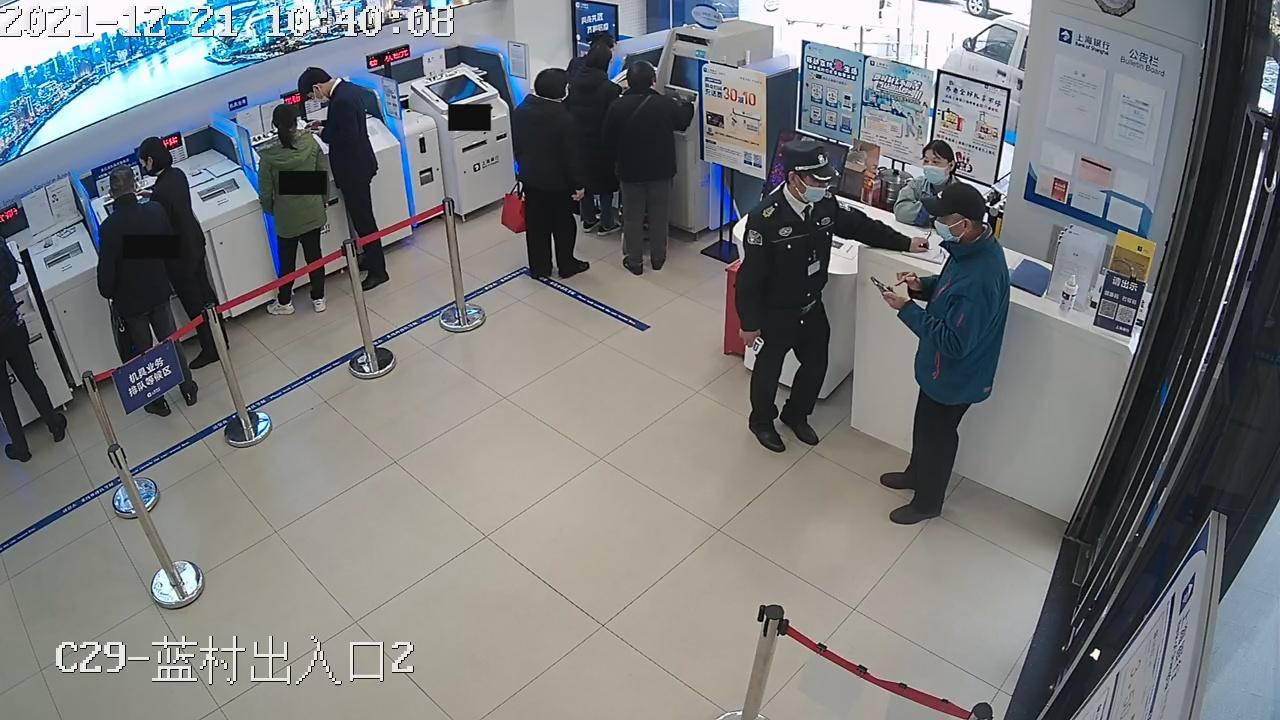person: (735, 138, 931, 454), (878, 185, 1012, 524), (879, 183, 1011, 525), (95, 160, 201, 412), (94, 163, 199, 416), (135, 136, 230, 371), (298, 65, 391, 293), (609, 60, 693, 277), (256, 100, 333, 320), (513, 67, 590, 284), (0, 219, 67, 459), (0, 237, 71, 462), (258, 102, 330, 316), (563, 35, 625, 244), (893, 140, 964, 228)
